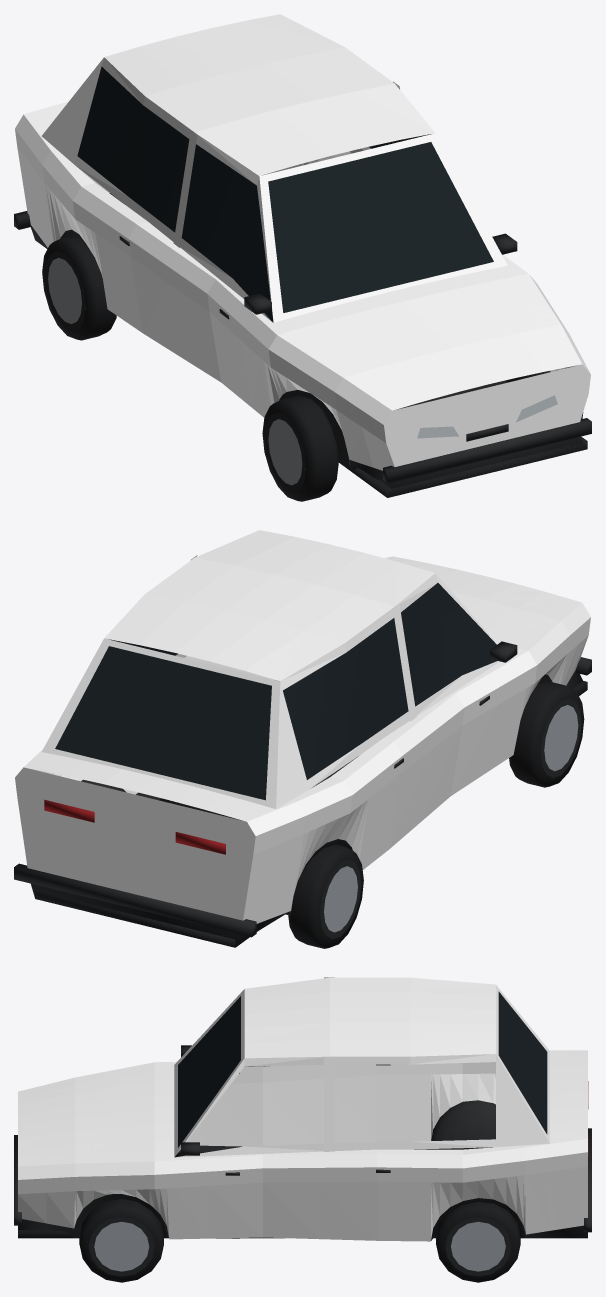
Rendered from vallon_ramo.glb.
The picture shows the model from 3 angles, top to bottom: view 1: azimuth 30°, elevation 25°; view 2: azimuth 150°, elevation 25°; view 3: azimuth 270°, elevation 25°; orthographic projection. The views are drawn at different scales.
Parts seen in each view (by area): view 1: Body_Paint, Body_Details, Mount_FrontLeft_Wheel_Details, Mount_RearLeft_Wheel_Details; view 2: Body_Paint, Body_Details, Mount_FrontLeft_Wheel_Details, Mount_RearLeft_Wheel_Details; view 3: Body_Paint, Body_Details, Mount_FrontRight_Wheel_Details, Mount_RearRight_Wheel_Details.
Boxes of the visible parts, bbox=[...] form: Body_Paint: bbox=[15, 14, 590, 470]; Body_Details: bbox=[14, 66, 591, 497]; Mount_FrontLeft_Wheel_Details: bbox=[262, 395, 338, 501]; Mount_RearLeft_Wheel_Details: bbox=[42, 235, 116, 340]; Body_Paint: bbox=[15, 530, 590, 923]; Body_Details: bbox=[14, 583, 591, 947]; Mount_FrontLeft_Wheel_Details: bbox=[509, 681, 584, 787]; Mount_RearLeft_Wheel_Details: bbox=[288, 844, 363, 948]; Body_Paint: bbox=[18, 977, 587, 1241]; Body_Details: bbox=[14, 991, 591, 1240]; Mount_FrontRight_Wheel_Details: bbox=[79, 1199, 163, 1282]; Mount_RearRight_Wheel_Details: bbox=[436, 1202, 520, 1282].
Bounding box in the file's own units: 1.79 × 1.63 × 3.95.
2 materials, 1 textured.
